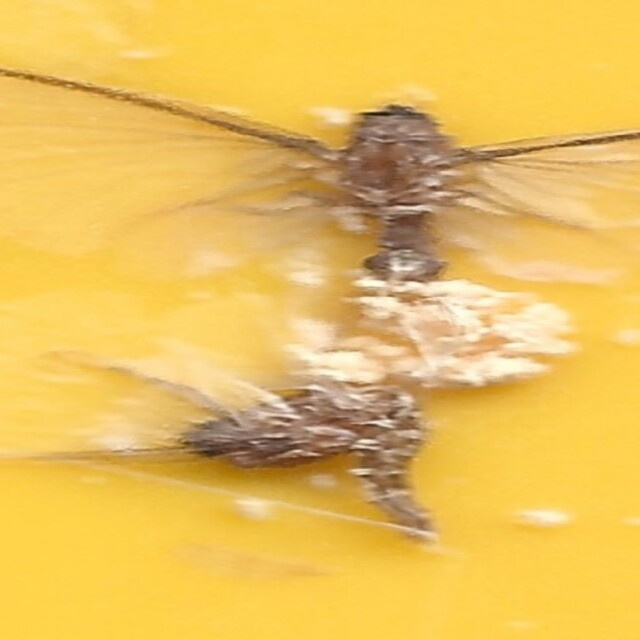Ephemeroptera: (177, 380, 443, 539), (335, 101, 463, 310)
